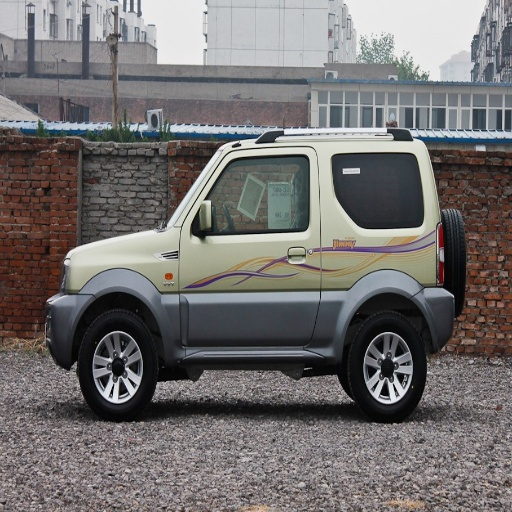back_glass: (343, 156, 420, 218)
back_left_door: (261, 149, 317, 341)
trunk: (313, 232, 446, 345)
